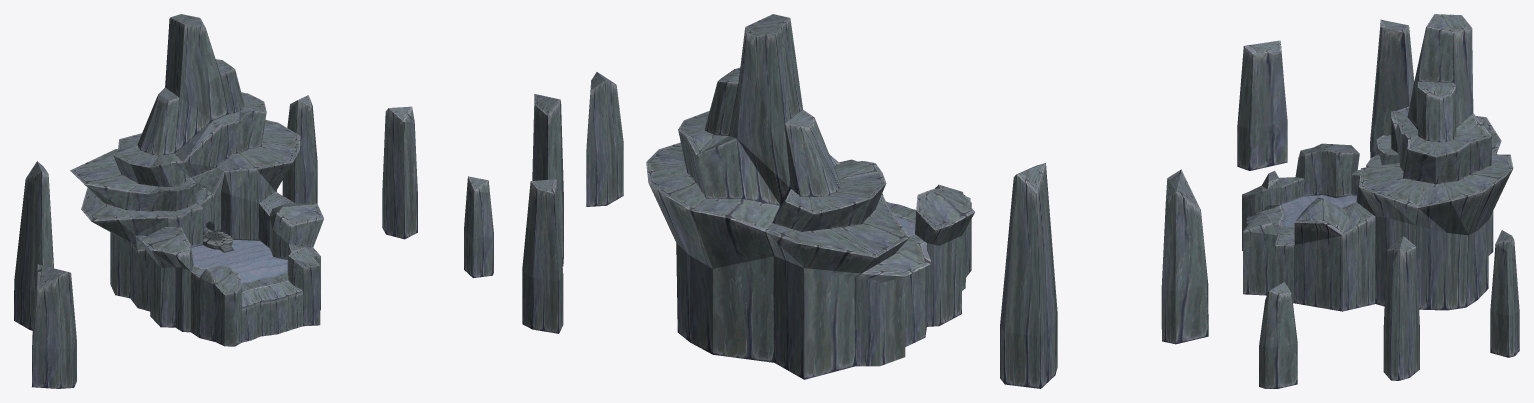
Rendered from map.obj.
The picture shows the model from 3 angles, left to right: view 1: azimuth 30°, elevation 25°; view 2: azimuth 150°, elevation 25°; view 3: azimuth 270°, elevation 25°; orthographic projection. The views are drawn at different scales.
Parts seen in each view (by area): view 1: n7b5, n2b4, n6b1, n3b0; view 2: n7b5, n2b4; view 3: n7b5, n2b4, n6b1, n3b0.
Part boxes in pixels (x1=…): n7b5: x1=14, y1=14, x2=493, y2=388; n2b4: x1=30, y1=15, x2=486, y2=293; n6b1: x1=113, y1=149, x2=319, y2=276; n3b0: x1=191, y1=239, x2=287, y2=282; n7b5: x1=522, y1=14, x2=1208, y2=388; n2b4: x1=535, y1=15, x2=1194, y2=272; n7b5: x1=1237, y1=14, x2=1519, y2=388; n2b4: x1=1244, y1=15, x2=1512, y2=293; n6b1: x1=1243, y1=135, x2=1483, y2=230; n3b0: x1=1281, y1=195, x2=1357, y2=226.
Size of the model in its own units: 1.23 by 0.6201 by 0.6157.
8 materials, 8 textured.
